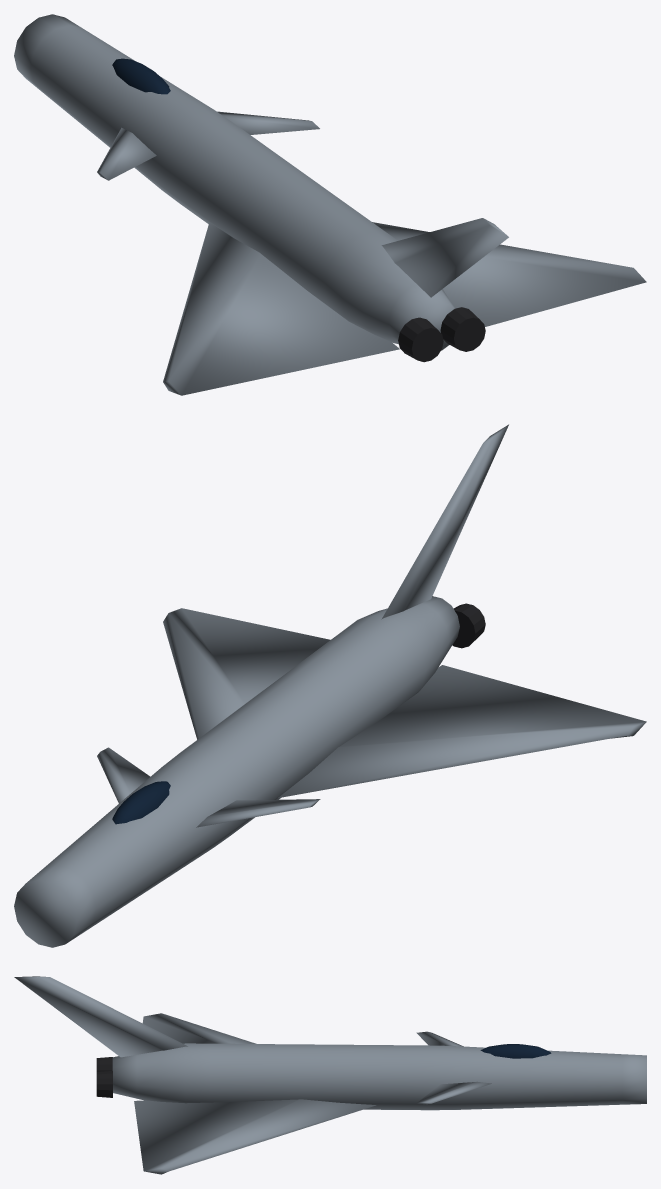
File: typhoon.obj
The picture shows the model from 3 angles, top to bottom: view 1: azimuth 30°, elevation 25°; view 2: azimuth 150°, elevation 25°; view 3: azimuth 270°, elevation 25°; orthographic projection. The views are drawn at different scales.
Visible parts, largest first — view 1: Body, Detail, Canopy; view 2: Body, Canopy, Detail; view 3: Body, Canopy, Detail.
Boxes of the visible parts, x1,y1,x2,y2 form: Body: (14,14,646,395); Detail: (398,307,485,362); Canopy: (112,58,170,94); Body: (14,424,646,947); Canopy: (112,781,170,824); Detail: (452,603,485,648); Body: (14,976,646,1174); Canopy: (480,1044,551,1058); Detail: (96,1057,112,1097).
Size of the model in its own units: 10.95 by 4.29 by 18.91.
